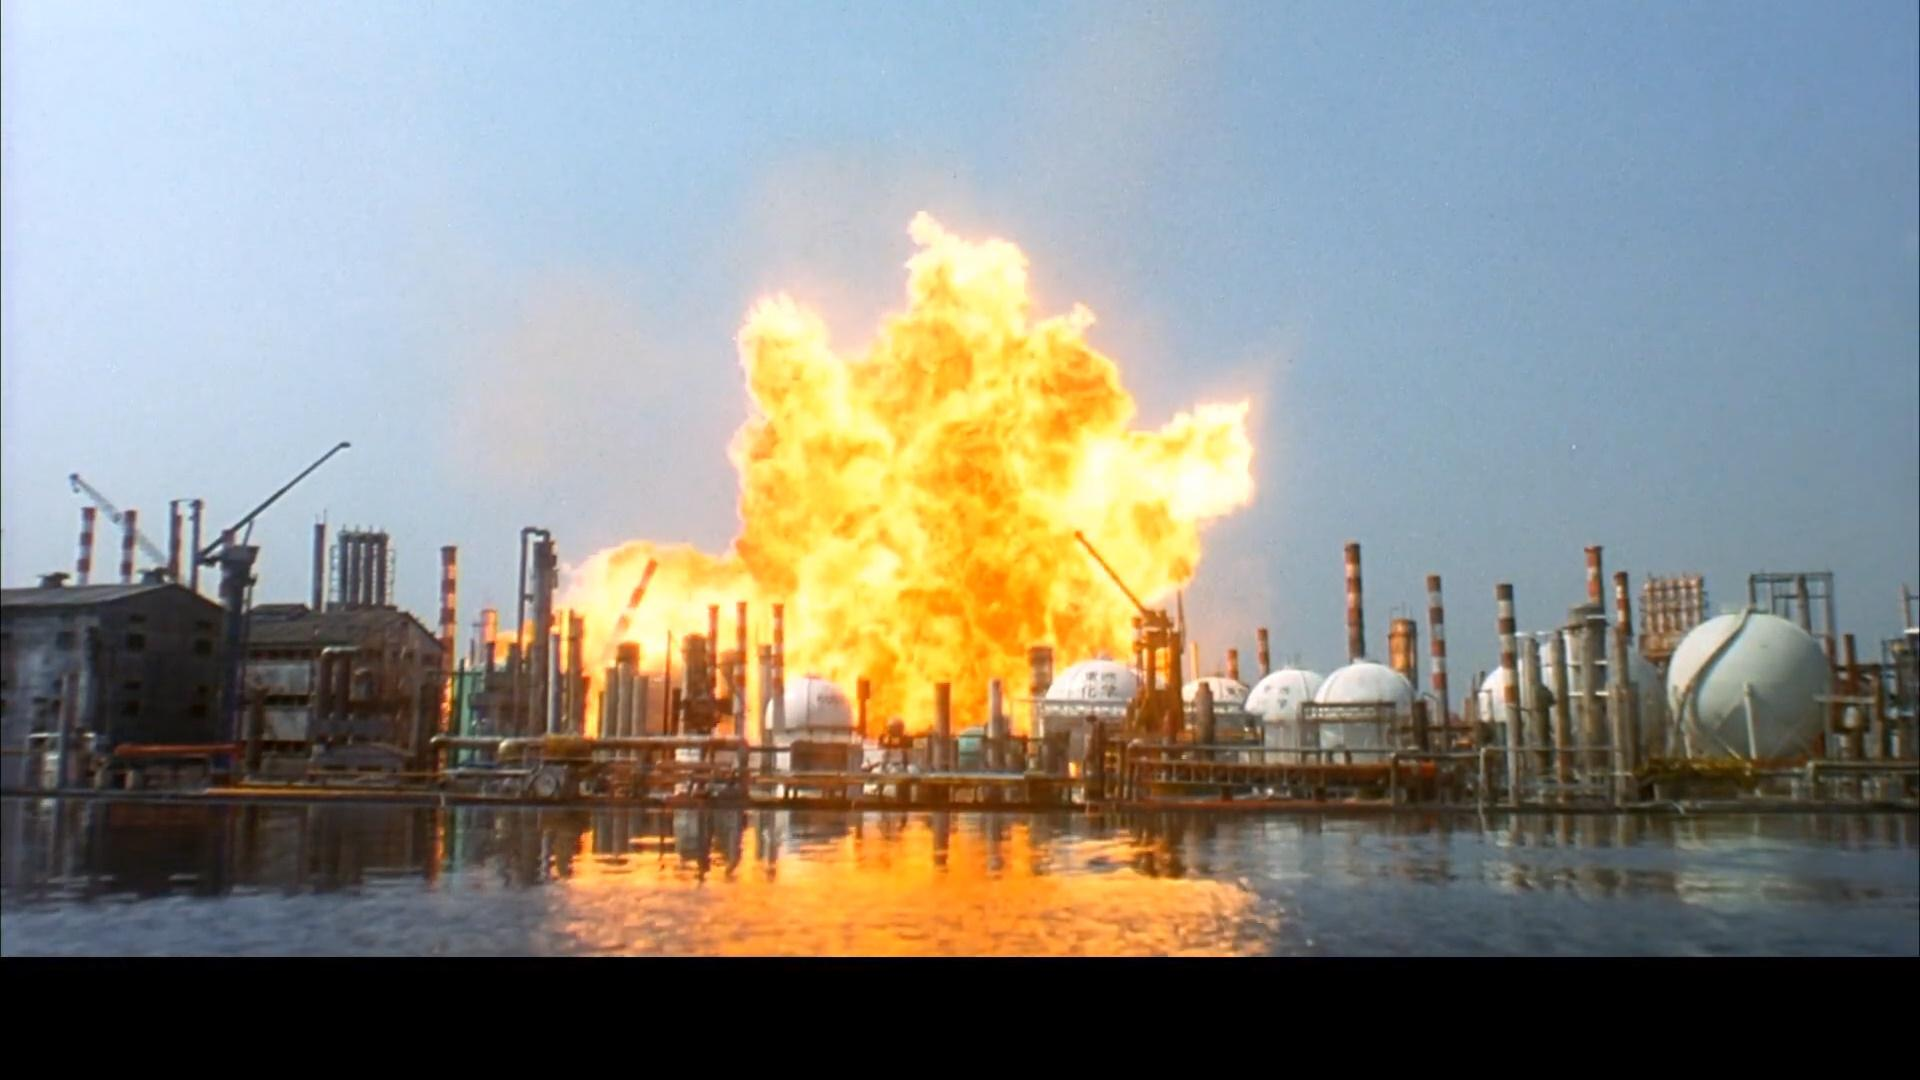fire: (476, 196, 1284, 819)
